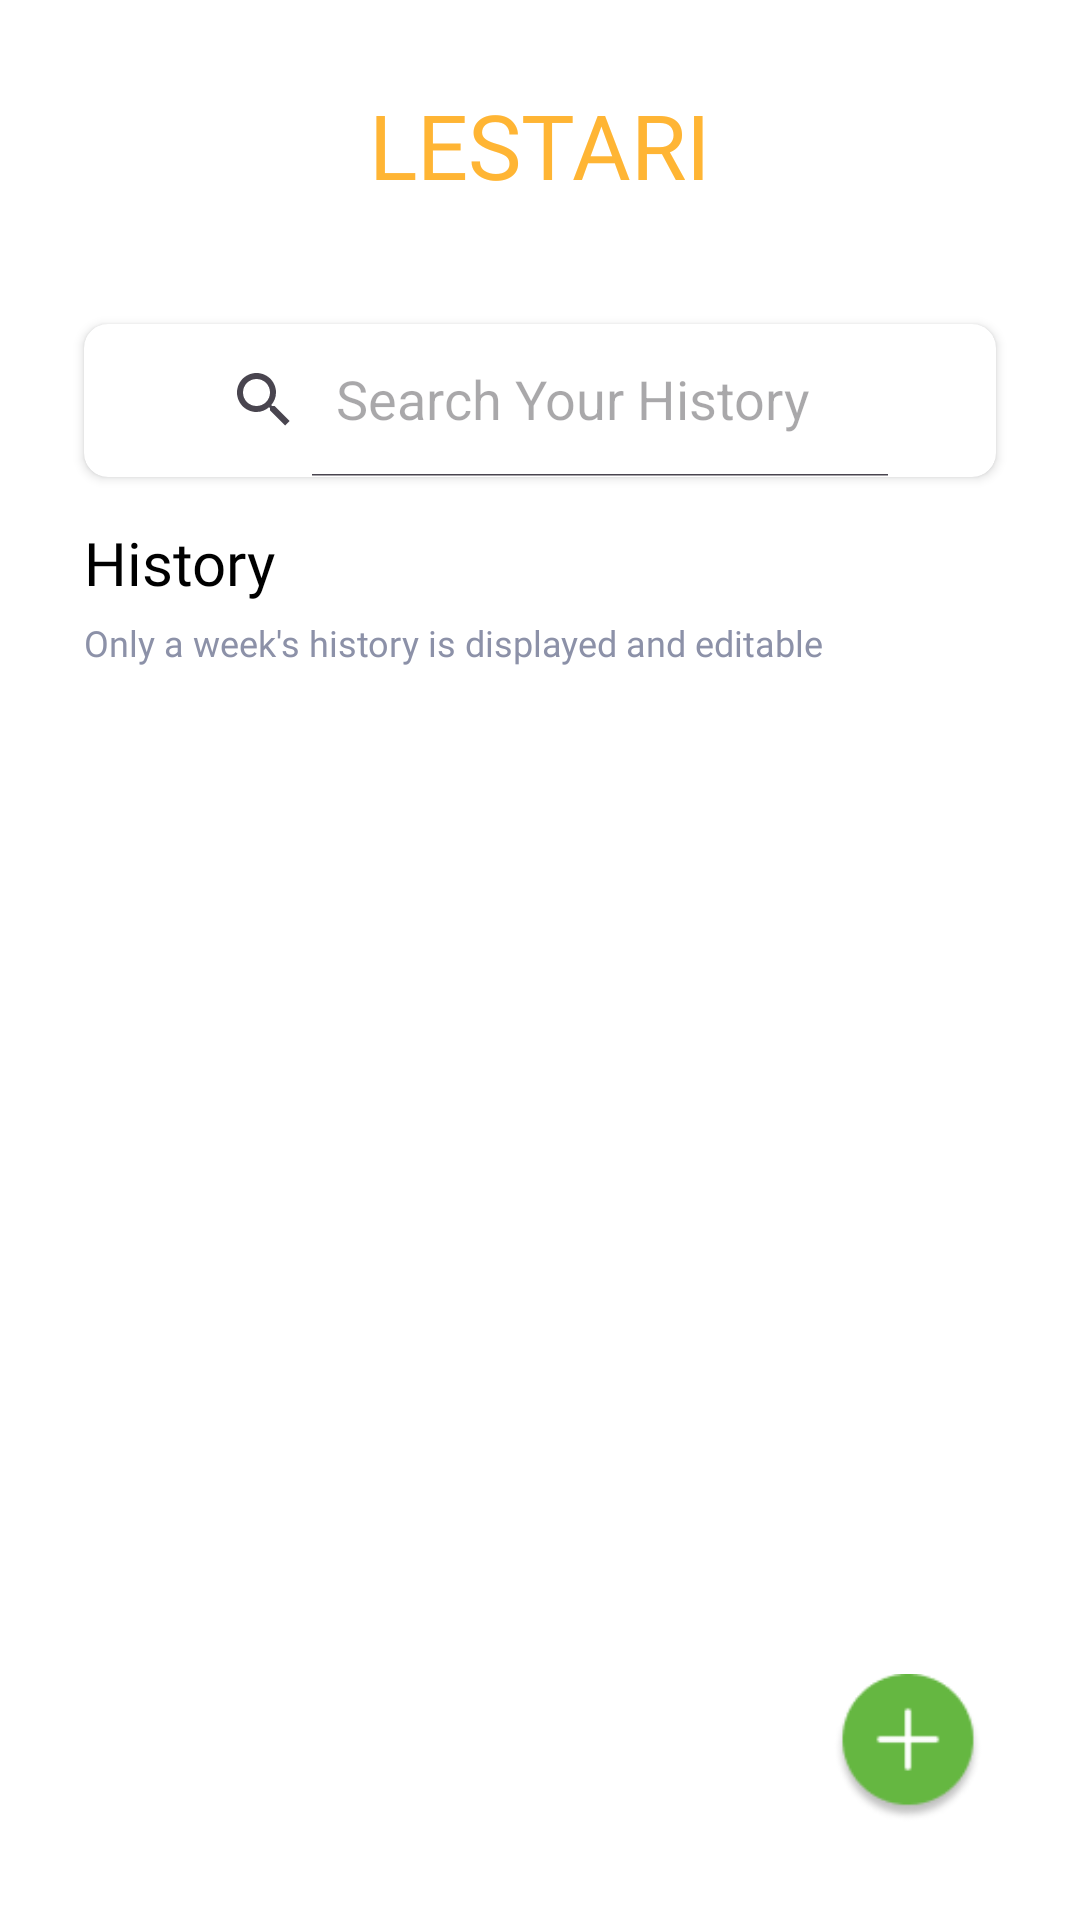

Icon click points for this 1080*1920 phone screenshot, format (x=x, y=y):
fab: (x=907, y=1744)
